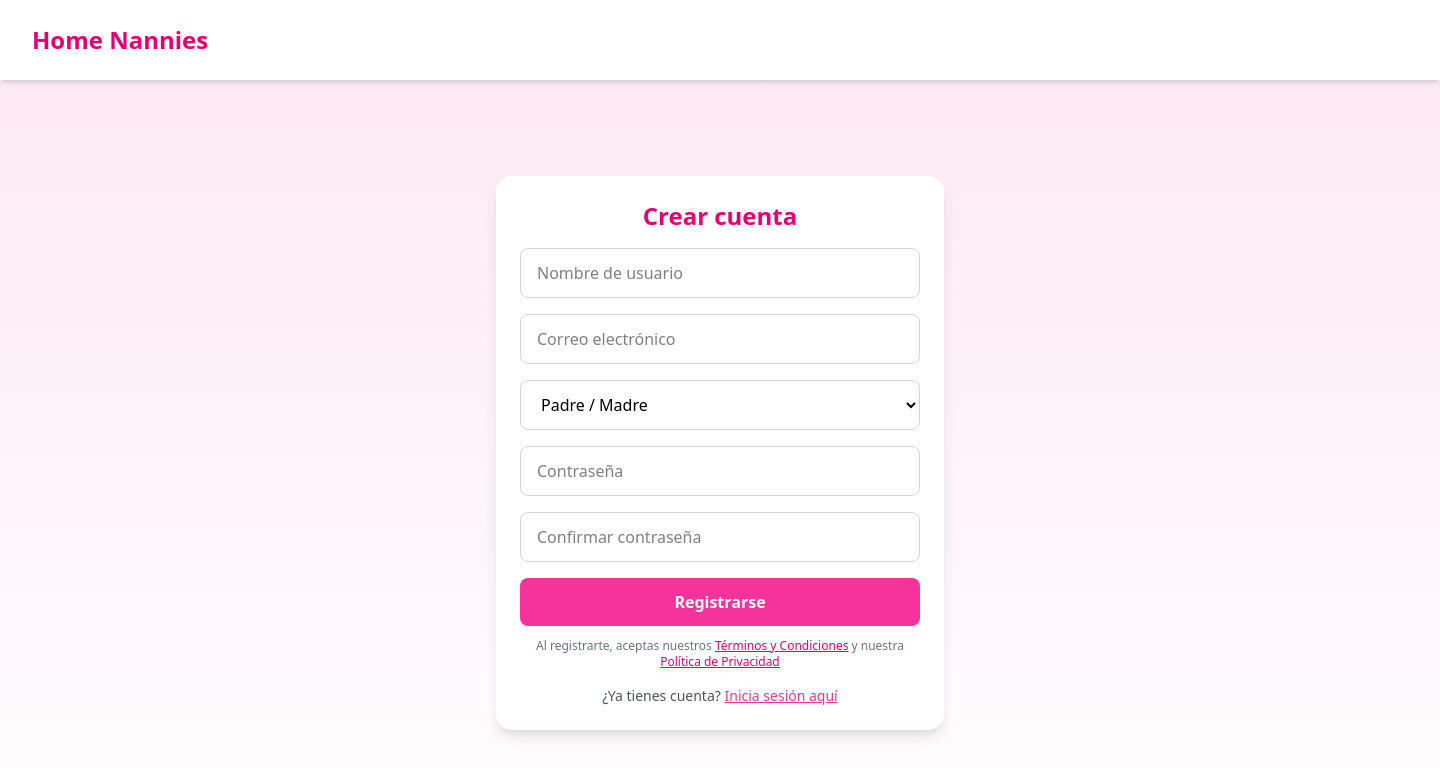
Scenario: Register Component › valida que las contraseñas coincidan
The width and height of the screenshot is (1440, 768).
Type "newuser" into the field with placeholder "Nombre de usuario" at (720, 273), box [520, 248, 920, 298]
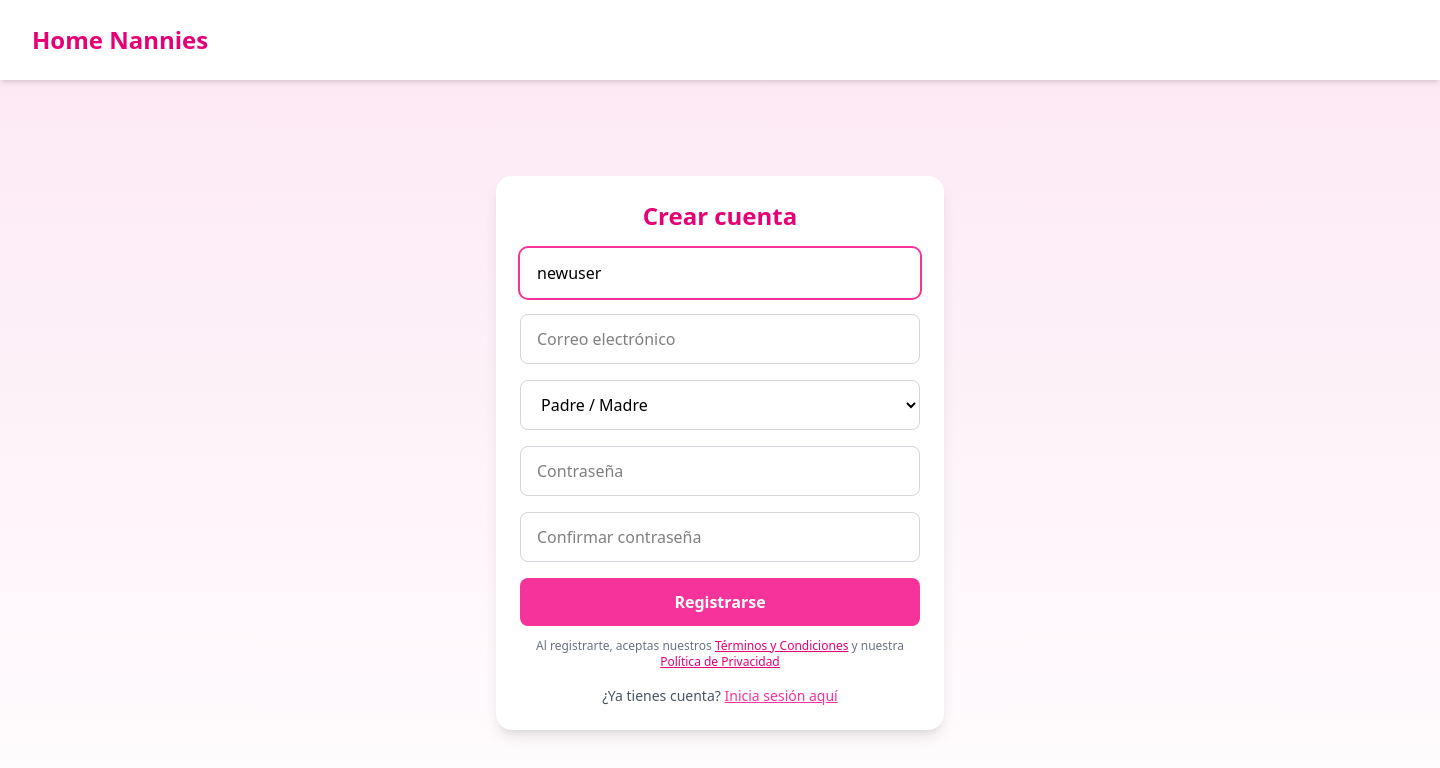
Type "test@example.com" into the field with placeholder "Correo electrónico" at (720, 339), box [520, 314, 920, 364]
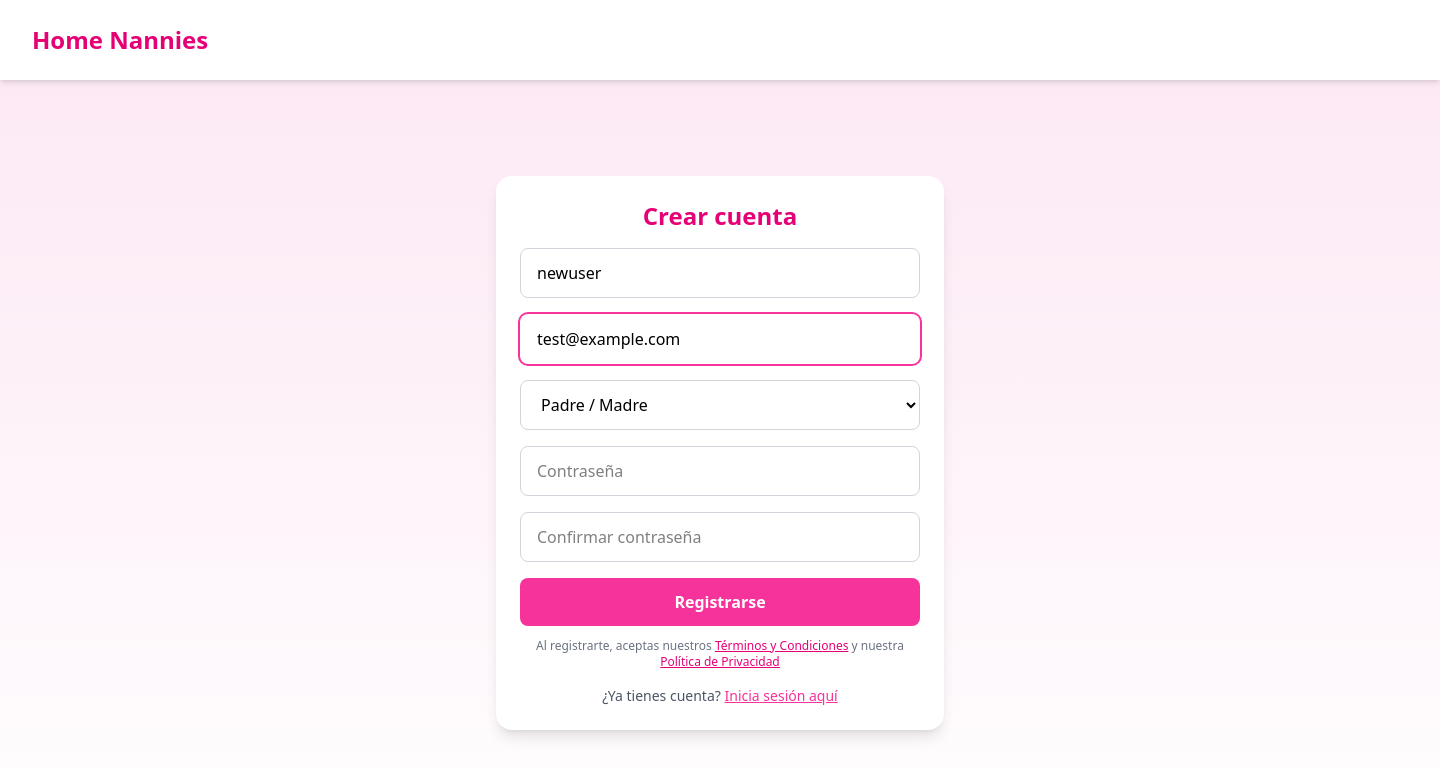
Type "Password123!" into the password field with placeholder "Contraseña" at (720, 471), box [520, 446, 920, 496]
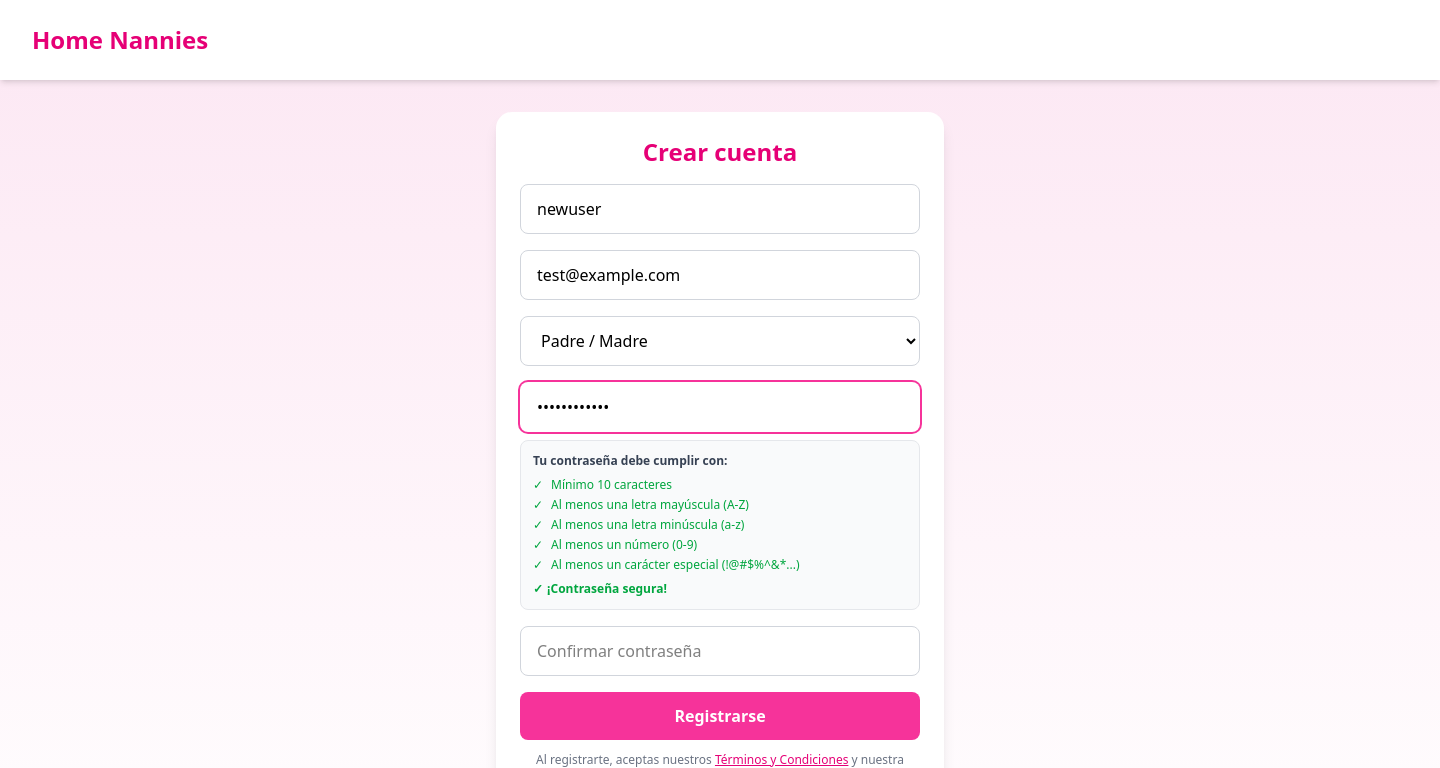
Type "Different123!" into the password field with placeholder "Confirmar contraseña" at (720, 651), box [520, 626, 920, 676]
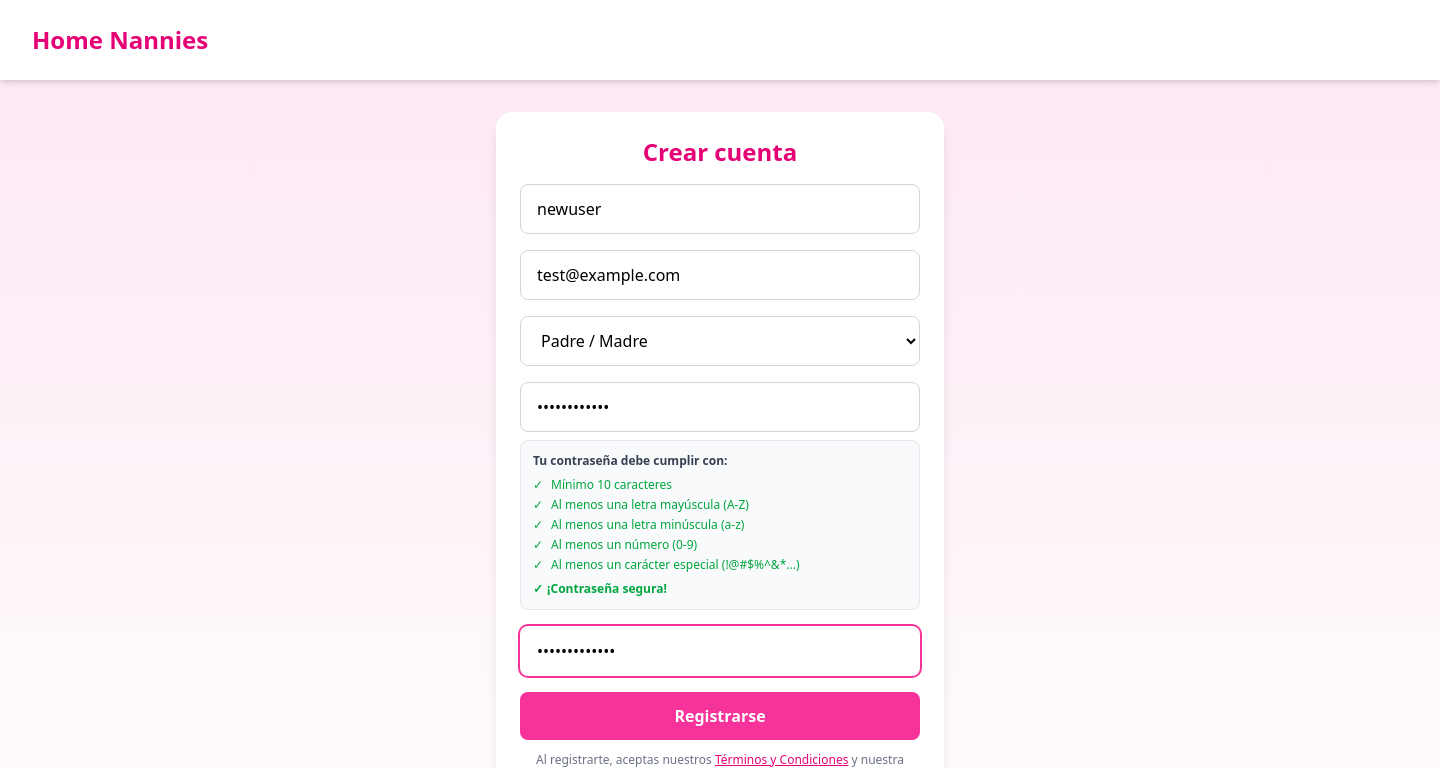
Click the button "Registrarse" at (720, 716), box [520, 692, 920, 740]
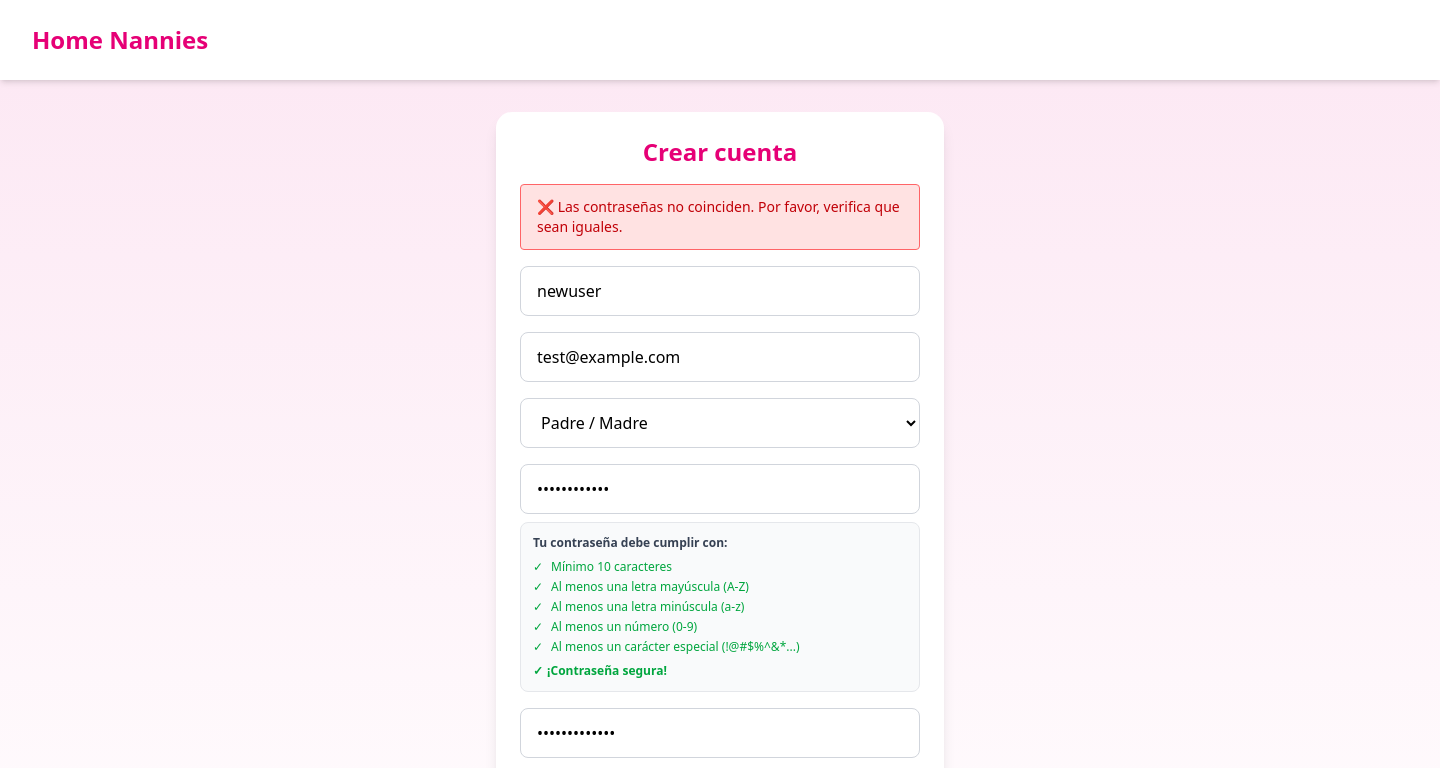
expect the text "no coinciden" is shown: met, box [537, 197, 900, 236]
